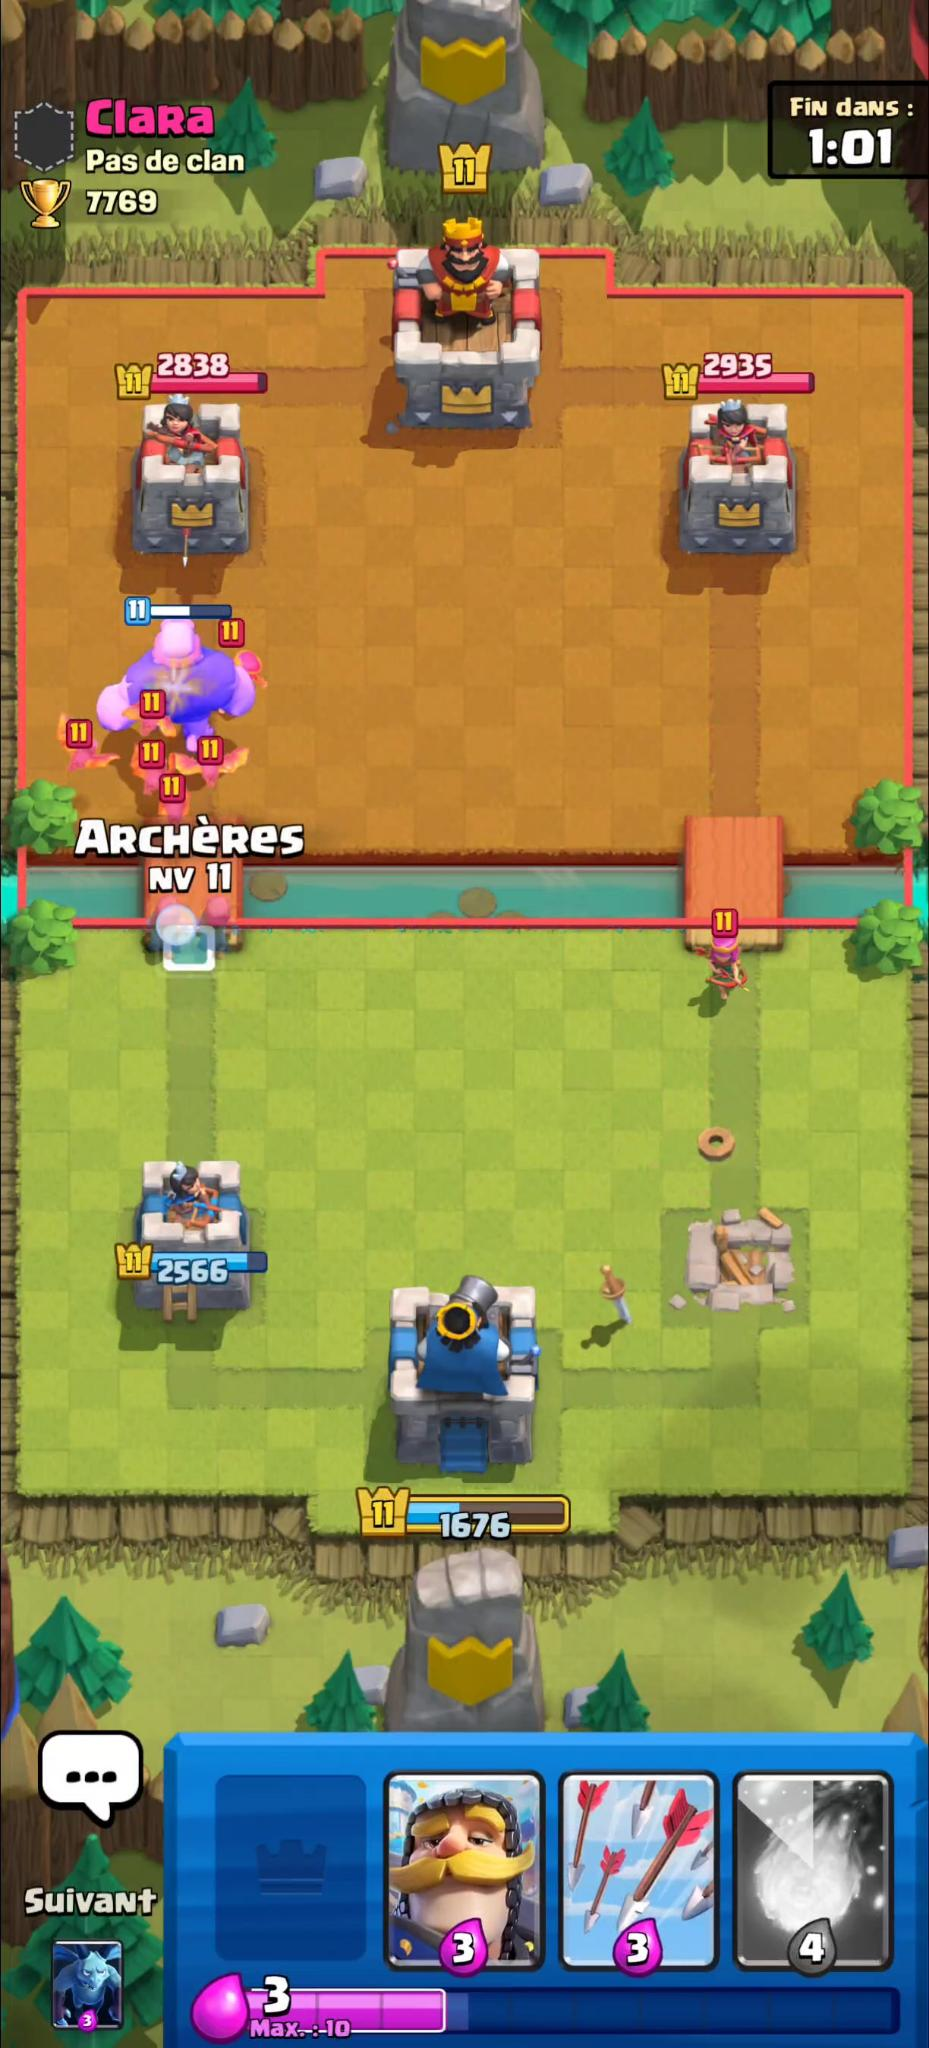archere: (695, 920, 751, 1006)
bat: (55, 713, 122, 772), (174, 742, 253, 790), (132, 738, 186, 797), (120, 700, 182, 739), (234, 649, 280, 695), (157, 789, 193, 824)
geant: (98, 615, 259, 743)
